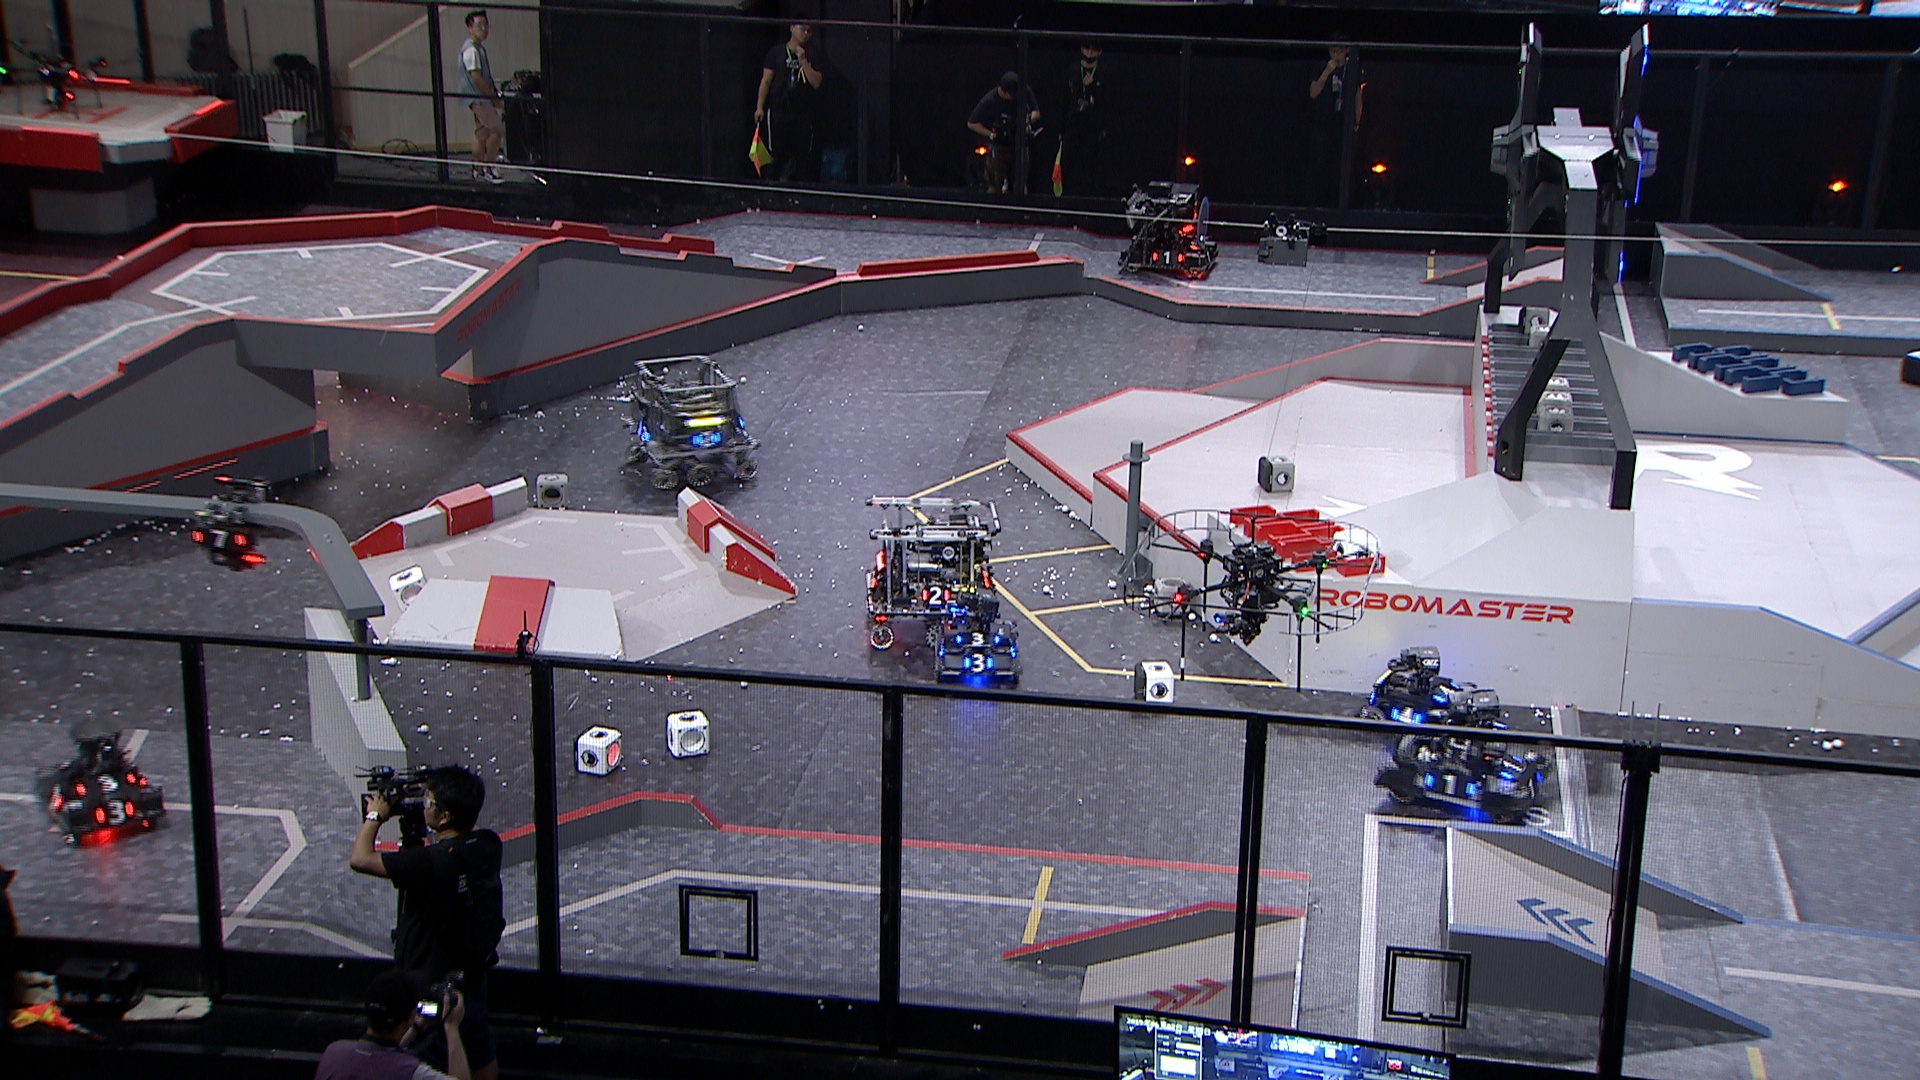armor: (74, 769, 136, 796), (1424, 770, 1476, 798), (92, 796, 136, 828), (191, 527, 248, 549), (1498, 752, 1527, 782), (1432, 678, 1461, 705), (1389, 704, 1423, 727), (916, 585, 951, 608), (1523, 769, 1544, 804), (961, 654, 997, 675), (955, 632, 1002, 646), (1149, 249, 1185, 266), (690, 431, 723, 450), (40, 785, 65, 808), (1201, 247, 1218, 266), (636, 425, 651, 443)
car: (1375, 687, 1551, 828), (856, 495, 1005, 647), (622, 349, 760, 491), (36, 717, 166, 841), (1354, 641, 1477, 738), (1116, 178, 1221, 278), (931, 589, 1027, 692)
watcher: (187, 473, 272, 571)
